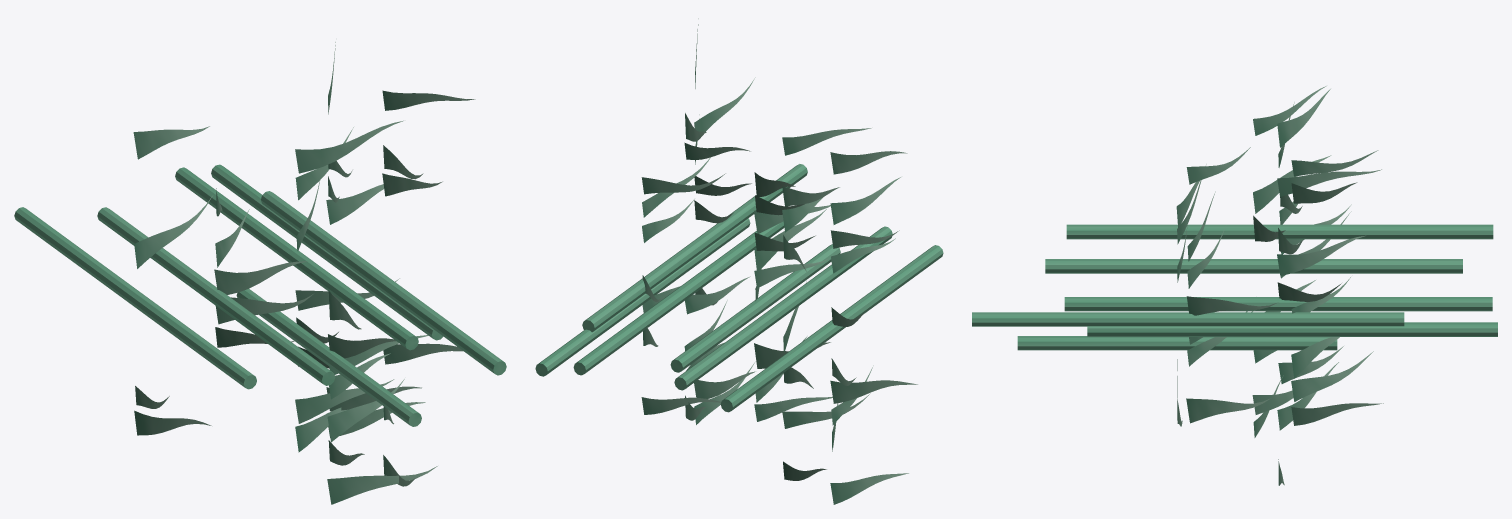
The model's file is mesh-plant-044-redstem-weed_LOD0.glb.
The picture shows the model from 3 angles, left to right: view 1: azimuth 30°, elevation 25°; view 2: azimuth 150°, elevation 25°; view 3: azimuth 270°, elevation 25°; orthographic projection. The views are drawn at different scales.
Visible parts, largest first — view 1: geometry_0; view 2: geometry_0; view 3: geometry_0.
Boxes of the visible parts, bbox=[...] form: geometry_0: bbox=[14, 42, 506, 504]; geometry_0: bbox=[535, 18, 943, 504]; geometry_0: bbox=[972, 86, 1497, 485].
Size of the model in its own units: 1.05 by 1.16 by 1.45.
